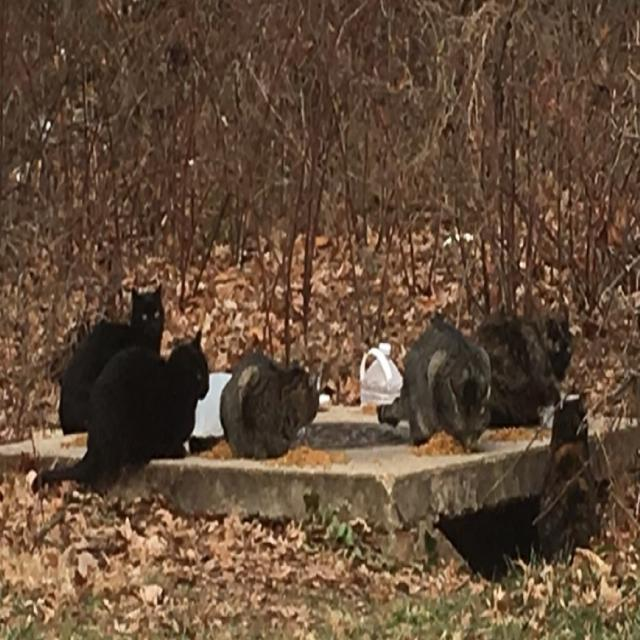cat: (39, 335, 209, 490), (59, 287, 164, 434), (378, 315, 490, 447), (475, 313, 572, 425), (220, 352, 319, 458), (534, 399, 599, 560)
